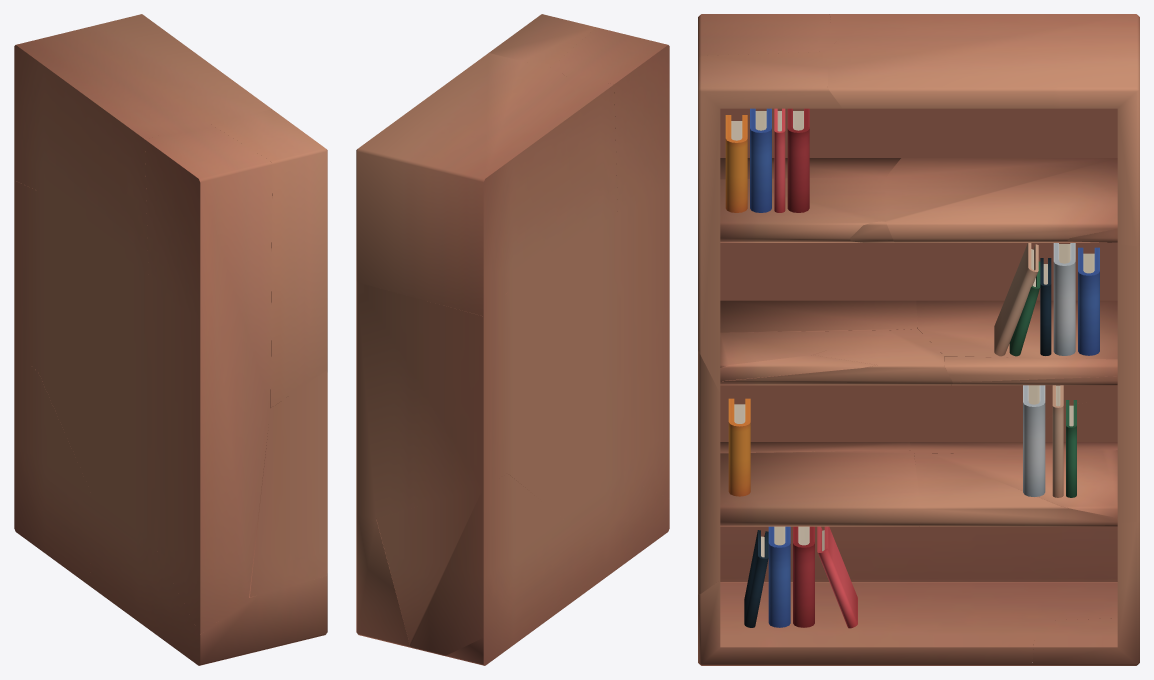
File: Shelves6.fbx
The picture shows the model from 3 angles, left to right: view 1: azimuth 30°, elevation 25°; view 2: azimuth 150°, elevation 25°; view 3: azimuth 270°, elevation 25°; orthographic projection. The views are drawn at different scales.
Parts seen in each view (by area): view 1: BookShelves2.001_cell.025, BookShelves2.001_cell.023, BookShelves2.001_cell.030, BookShelves2.001_cell.029, BookShelves2.001_cell.022, BookShelves2.001_cell.024, BookShelves2.001_cell.021, BookShelves2.001_cell.028, BookShelves2.001_cell.027; view 2: BookShelves2.001_cell.030, BookShelves2.001_cell.023, BookShelves2.001_cell.028, BookShelves2.001_cell.025, BookShelves2.001_cell.021, BookShelves2.001_cell.022, BookShelves2.001_cell.026, BookShelves2.001_cell.029, BookShelves2.001_cell.027; view 3: BookShelves2.001_cell.030, BookShelves2.001_cell.023, BookShelves2.001_cell.022, BookShelves2.002_cell.041, BookShelves2.001_cell.025, BookShelves2.001_cell.021, BookShelves2.002_cell.036, BookShelves2.001_cell.029, BookShelves2.001_cell.028, BookShelves2.002_cell.038, BookShelves2.002_cell.045, BookShelves2.001_cell.026 (+30 smaller).
Part boxes in pixels (<box>): BookShelves2.001_cell.025: <box>145,124,272,634</box>; BookShelves2.001_cell.023: <box>38,125,193,548</box>; BookShelves2.001_cell.030: <box>14,14,271,190</box>; BookShelves2.001_cell.029: <box>210,109,327,407</box>; BookShelves2.001_cell.022: <box>90,502,327,665</box>; BookShelves2.001_cell.024: <box>249,370,327,597</box>; BookShelves2.001_cell.021: <box>14,351,94,566</box>; BookShelves2.001_cell.028: <box>14,180,38,371</box>; BookShelves2.001_cell.027: <box>14,502,90,586</box>; BookShelves2.001_cell.030: <box>356,53,595,316</box>; BookShelves2.001_cell.023: <box>507,73,625,519</box>; BookShelves2.001_cell.028: <box>356,281,507,518</box>; BookShelves2.001_cell.025: <box>551,27,669,498</box>; BookShelves2.001_cell.021: <box>376,473,564,655</box>; BookShelves2.001_cell.022: <box>559,478,669,610</box>; BookShelves2.001_cell.026: <box>356,512,411,647</box>; BookShelves2.001_cell.029: <box>489,14,595,67</box>; BookShelves2.001_cell.027: <box>445,592,559,665</box>; BookShelves2.001_cell.030: <box>828,14,1139,246</box>; BookShelves2.001_cell.023: <box>808,14,1066,441</box>; BookShelves2.001_cell.022: <box>698,526,1035,665</box>; BookShelves2.002_cell.041: <box>886,158,1117,242</box>; BookShelves2.001_cell.025: <box>698,14,833,540</box>; BookShelves2.001_cell.021: <box>967,400,1117,620</box>; BookShelves2.002_cell.036: <box>720,450,920,526</box>; BookShelves2.001_cell.029: <box>698,51,842,392</box>; BookShelves2.001_cell.028: <box>1066,242,1139,523</box>; BookShelves2.002_cell.038: <box>914,453,1117,526</box>; BookShelves2.002_cell.045: <box>720,177,885,242</box>; BookShelves2.001_cell.026: <box>1032,520,1139,665</box>.
Bounding box in the file's own units: 1.53 × 0.6103 × 2.21.
